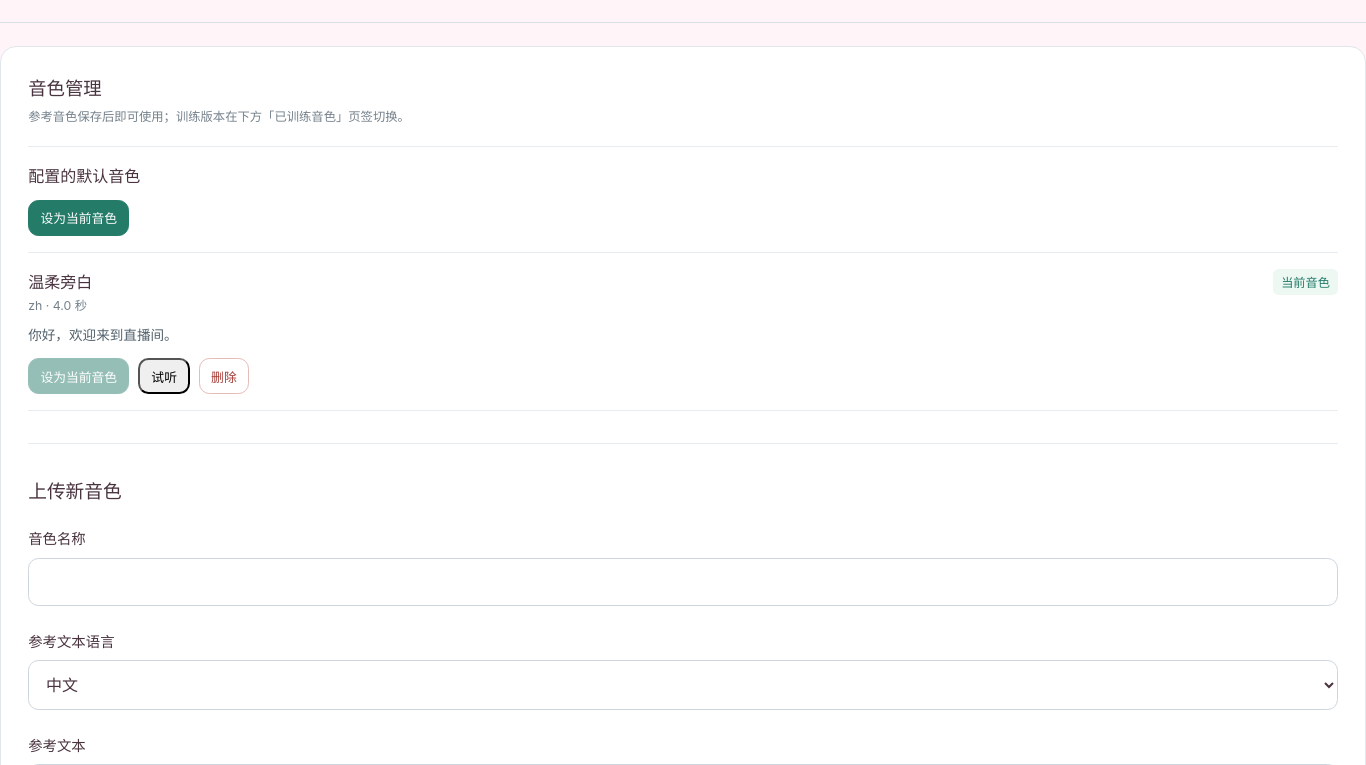
Test case: 音色试听进度 › 将已排队试听更新为服务端的 failed，并停止状态查询
This screenshot has width=1366, height=765.
Click the button "试听" at (164, 376), box [138,358,190,394]
Wait 6000 ms
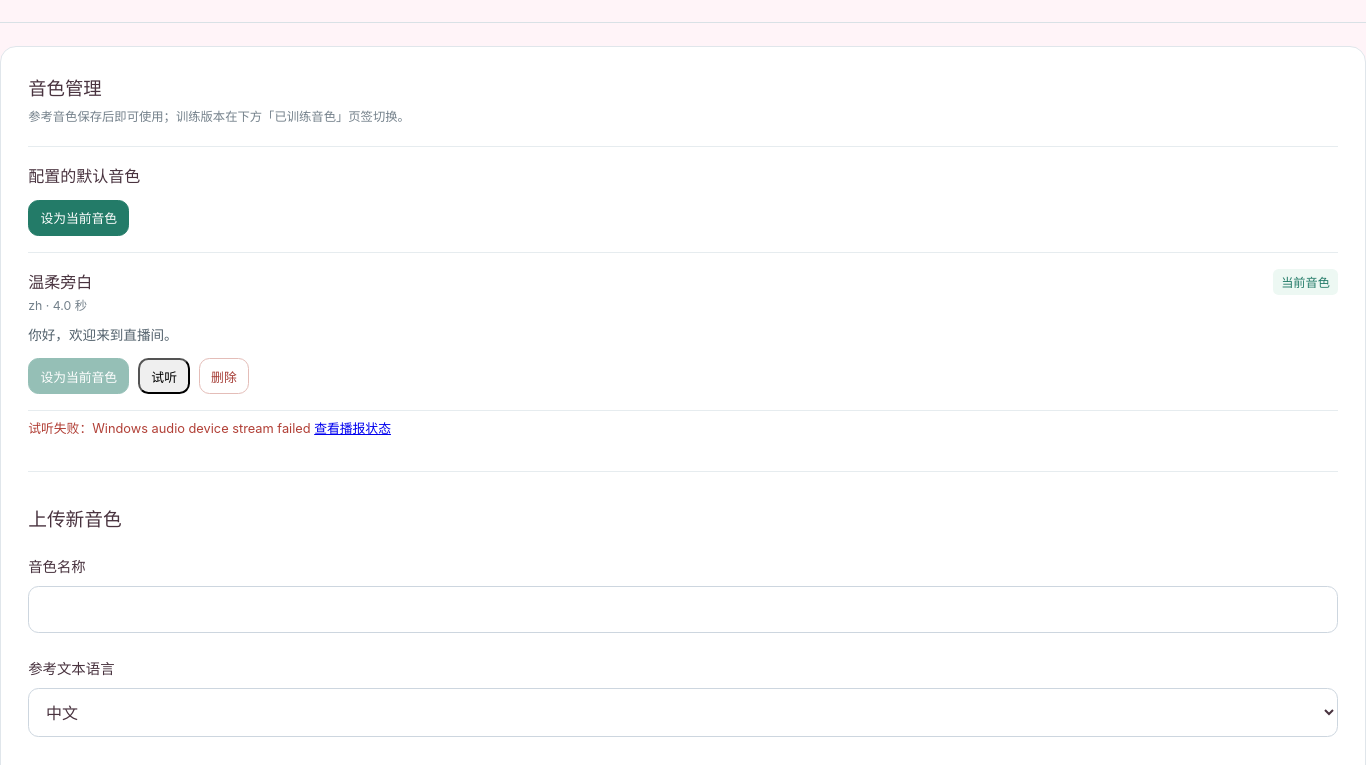
Expected: the text "试听失败：Windows audio device stream failed 查看播报状态" is shown, [28,420,391,436]
